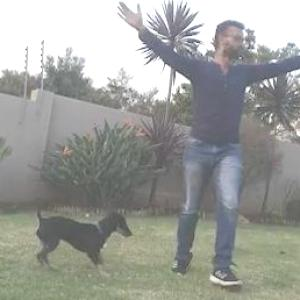takeoff: (137, 0, 299, 290)
